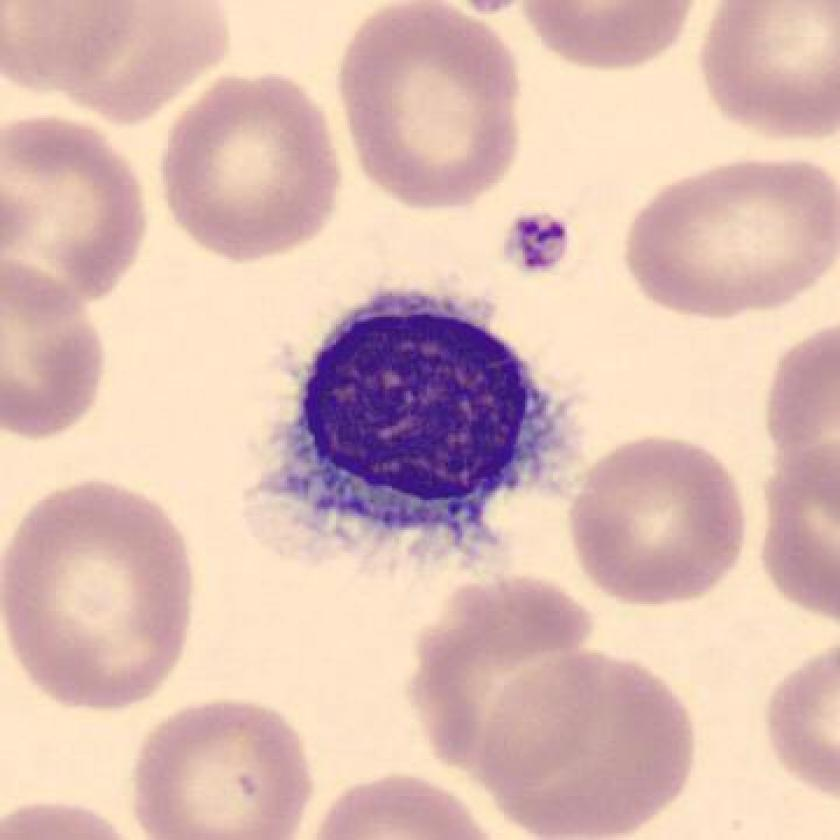lymphocyte: (258, 269, 580, 575)
